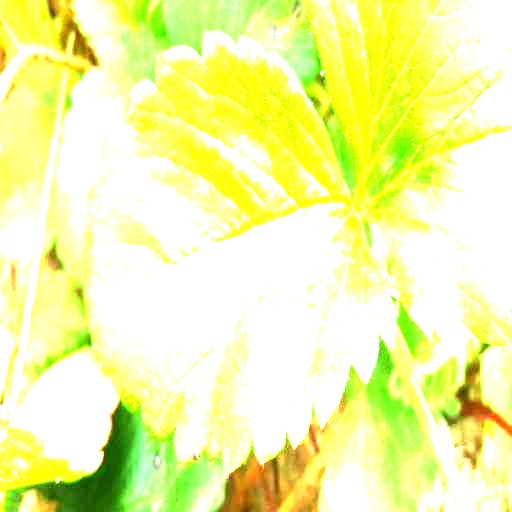Leaf Spot: (82, 30, 399, 478), (48, 405, 227, 511)
